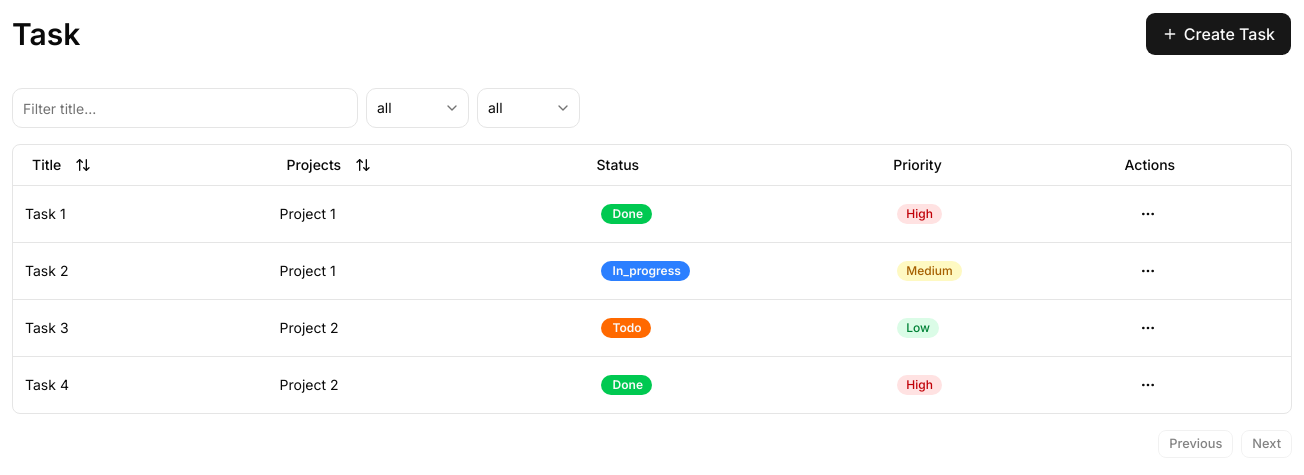
TaskDetailPage › should filter tasks by status
Expected: the text "Task 1" is shown, [13,185,268,242]
Step 1. Click the dropdown named "Filter by status" → (417, 108), box [366,88,469,128]
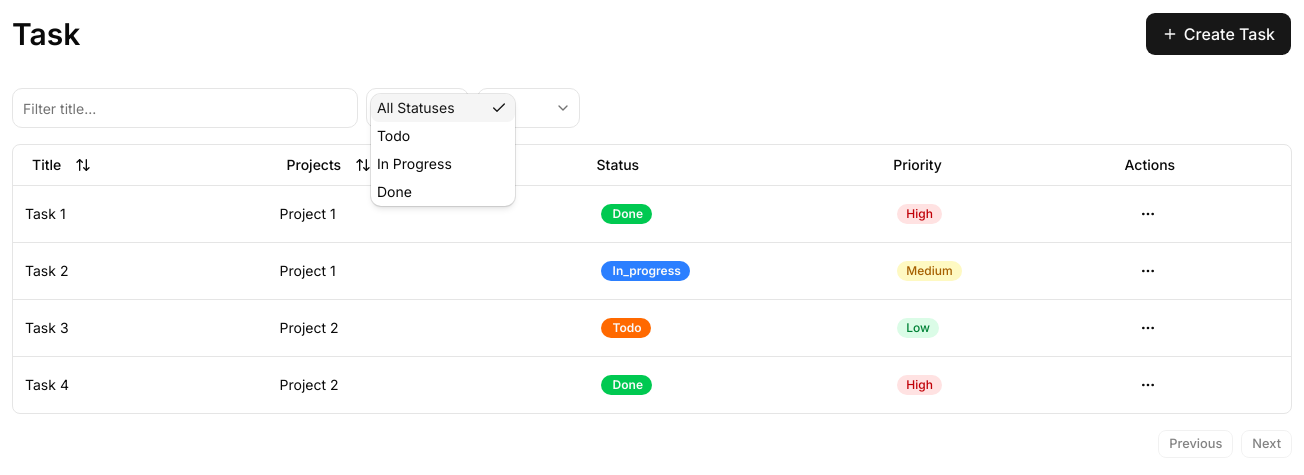
Step 2. Click the option "Done" → (394, 192), box [377,183,412,200]
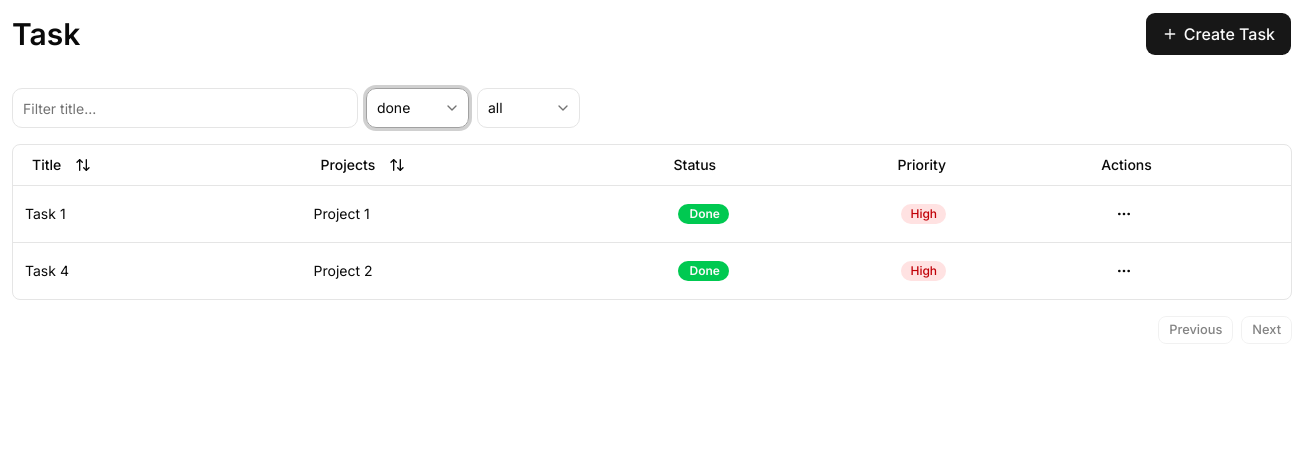
Expected: the text "Task 1" is shown, [13,185,302,242]
Result: the text "Task 2" is gone
Result: the text "Task 3" is gone
